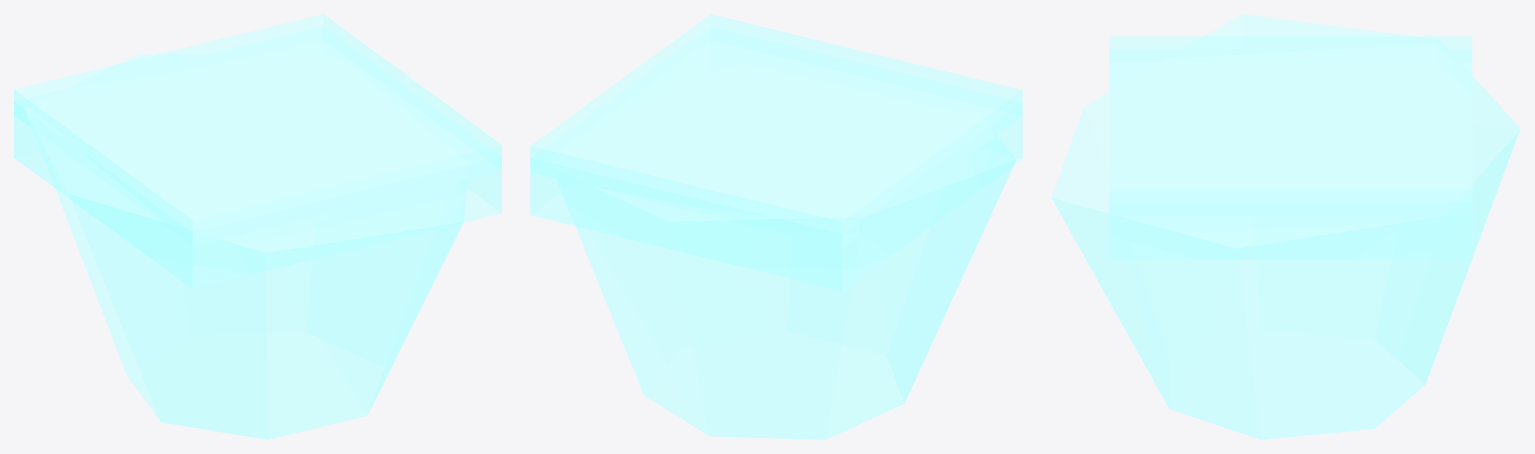
File: GH_Tile_IslandEdge.fbx
3 views of the same model, side by side, from view 1: azimuth 30°, elevation 25°; view 2: azimuth 150°, elevation 25°; view 3: azimuth 270°, elevation 25° (orthographic).
Visible parts, largest first — view 1: SM_Tile_IslandEdge; view 2: SM_Tile_IslandEdge; view 3: SM_Tile_IslandEdge.
Boxes of the visible parts, box(x1,y1,x2,y2) form: SM_Tile_IslandEdge: box(14, 14, 501, 439); SM_Tile_IslandEdge: box(530, 14, 1022, 439); SM_Tile_IslandEdge: box(1051, 14, 1520, 439).
Bounding box in the file's own units: 2.59 × 1.65 × 2.59.
